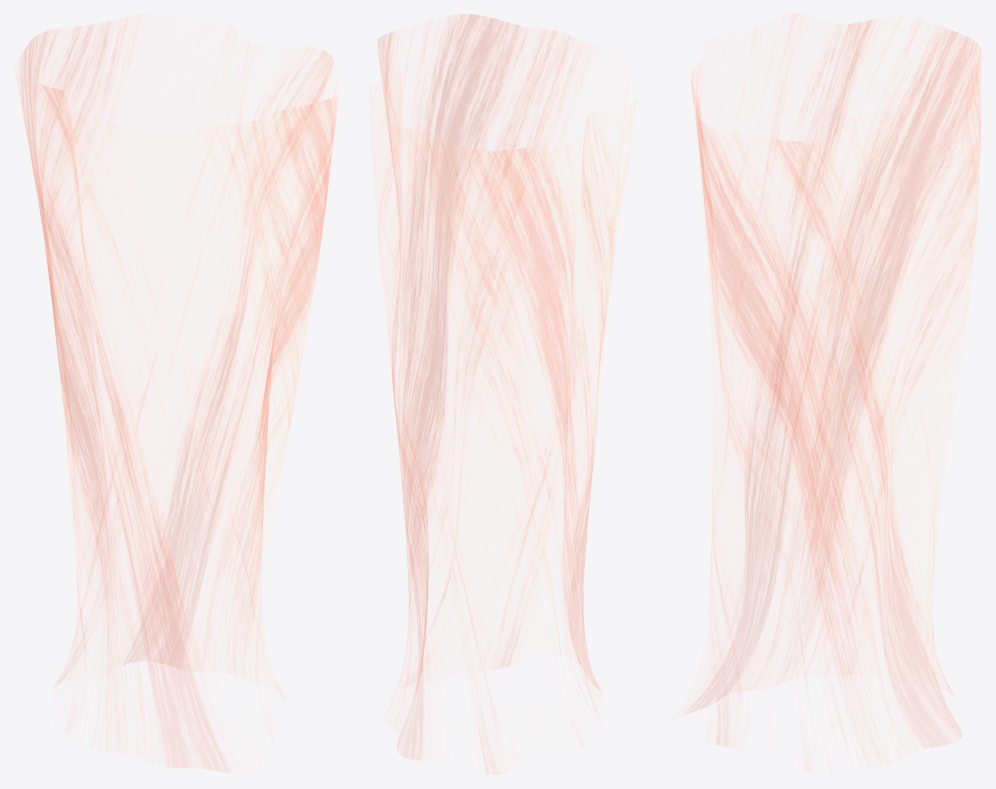
The model's file is devil_outer_1.glb.
3 views of the same model, side by side, from view 1: azimuth 30°, elevation 25°; view 2: azimuth 150°, elevation 25°; view 3: azimuth 270°, elevation 25° (orthographic). The views are drawn at different scales.
Parts seen in each view (by area): view 1: devil_outer_1; view 2: devil_outer_1; view 3: devil_outer_1.
Boxes of the visible parts, box(x1,y1,x2,y2) form: devil_outer_1: box(15, 15, 338, 772); devil_outer_1: box(369, 14, 636, 774); devil_outer_1: box(684, 14, 981, 773).
Size of the model in its own units: 8.41 by 20 by 8.8.
Materials: 1 (1 with a texture image).
